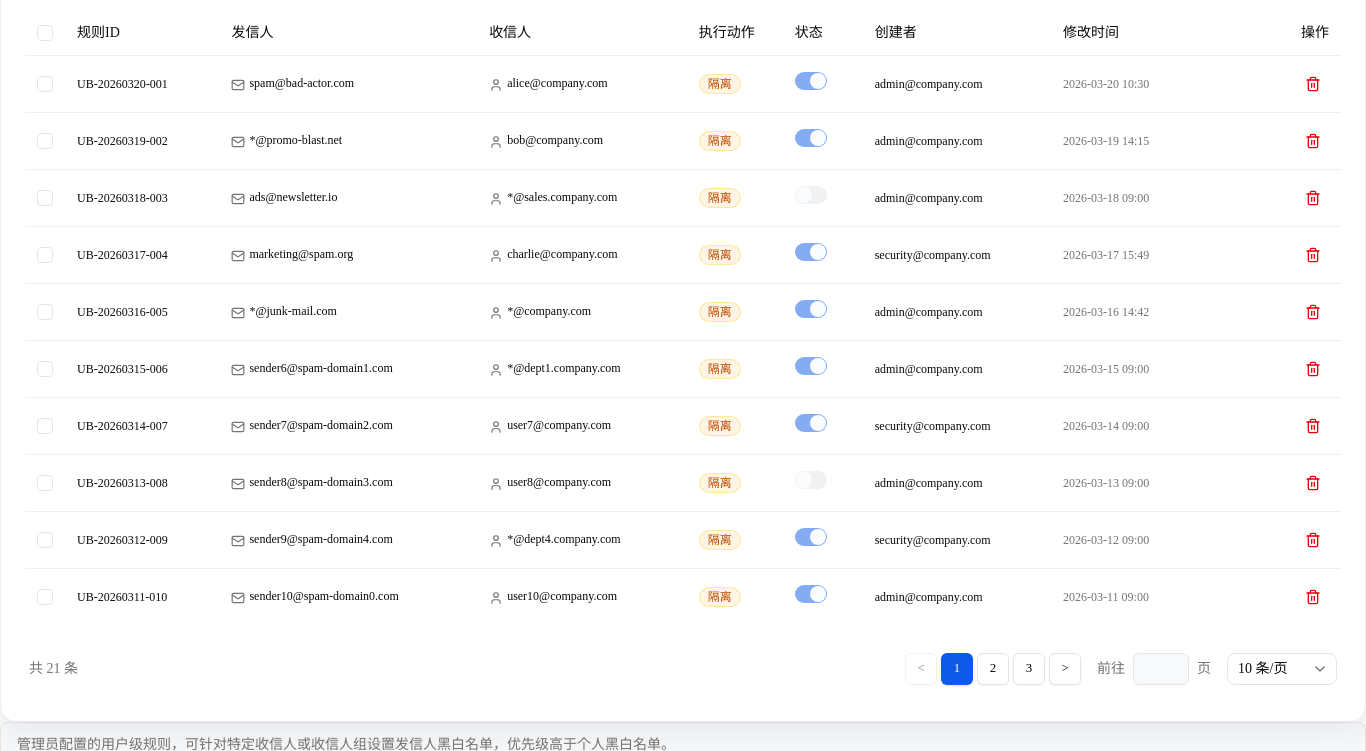
it: UserListPage › jump-page input clamps out-of-range values to [1, maxPage] (D-007)
(page scrolled)
Check: the text "UB-20260320-001" is shown, box [65, 55, 219, 112]
In the number field: (1161, 668) [1133, 652, 1189, 684], type "99"
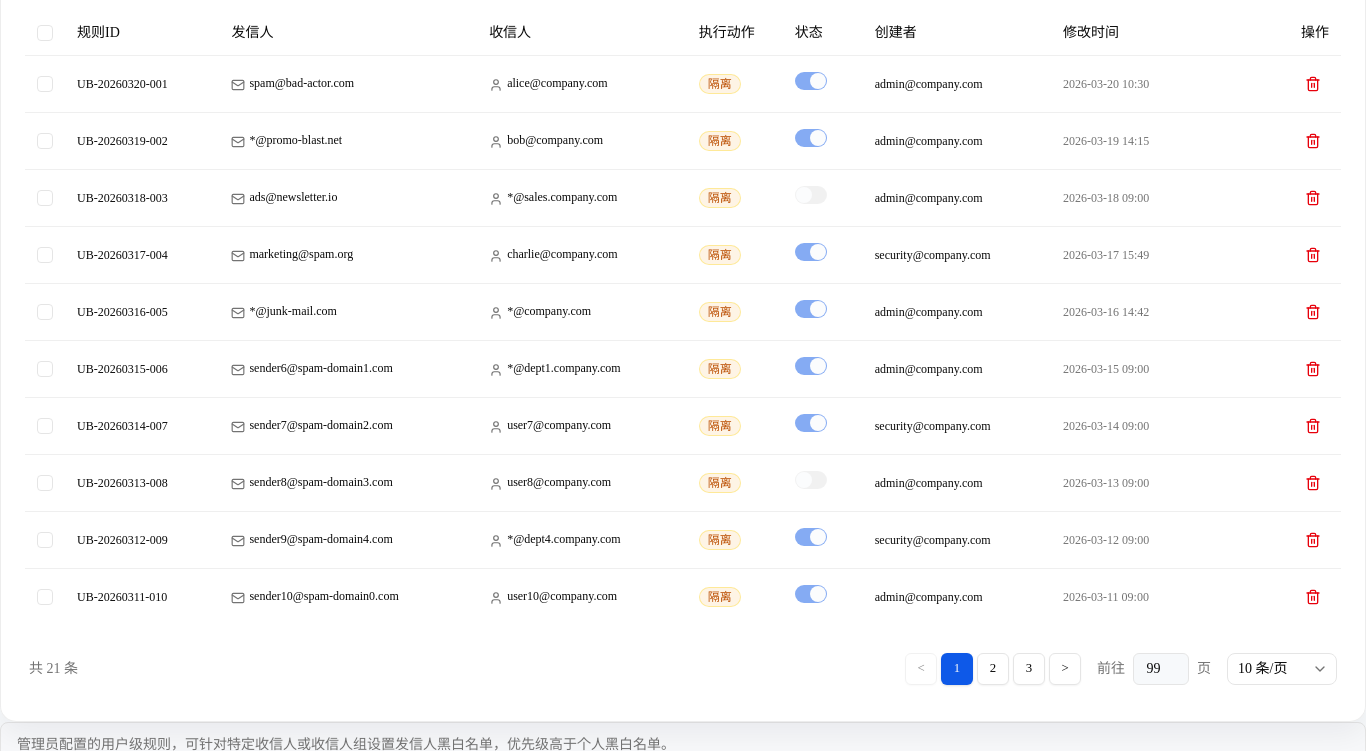
Press Enter in the number field, box [1133, 652, 1189, 684]
(page scrolled)
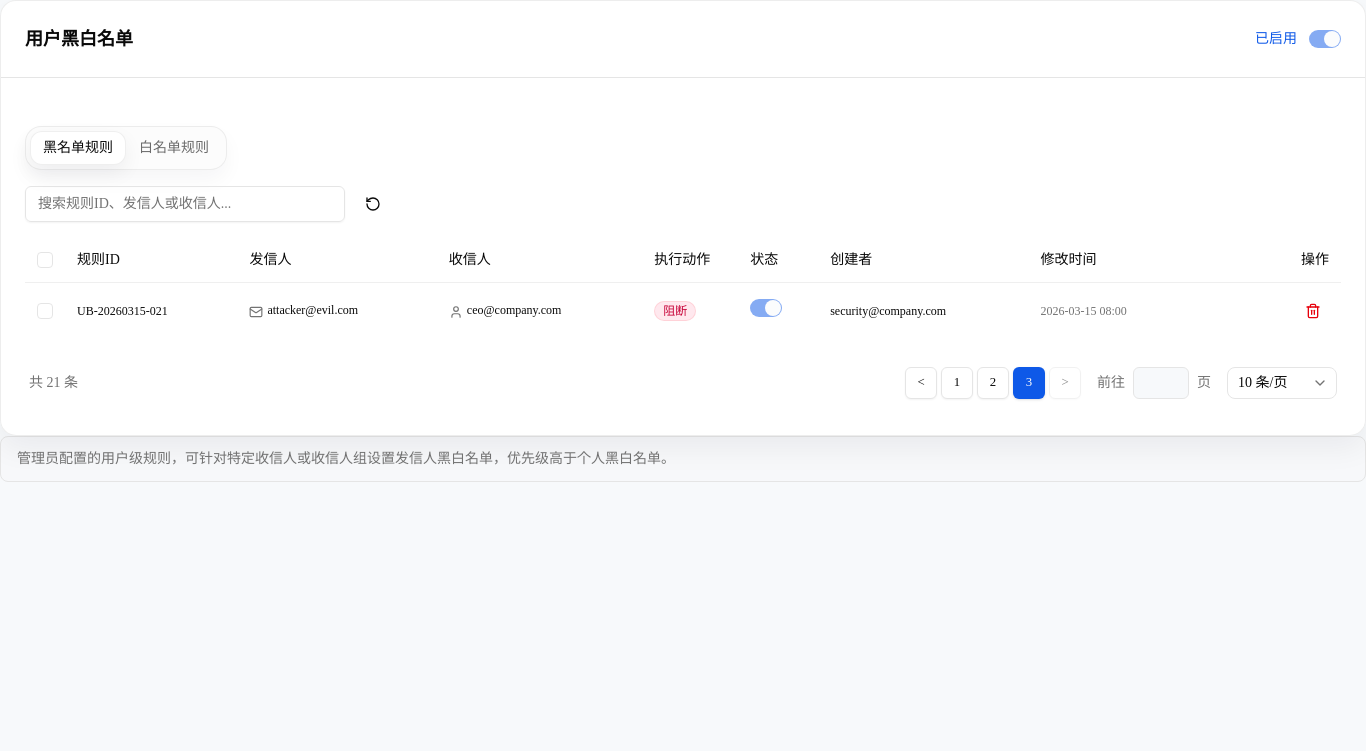
Check: the text "UB-20260315-021" is shown, box [65, 282, 237, 338]
Check: the text "UB-20260320-001" is gone
In the number field: (1161, 382) [1133, 366, 1189, 398], type "0"
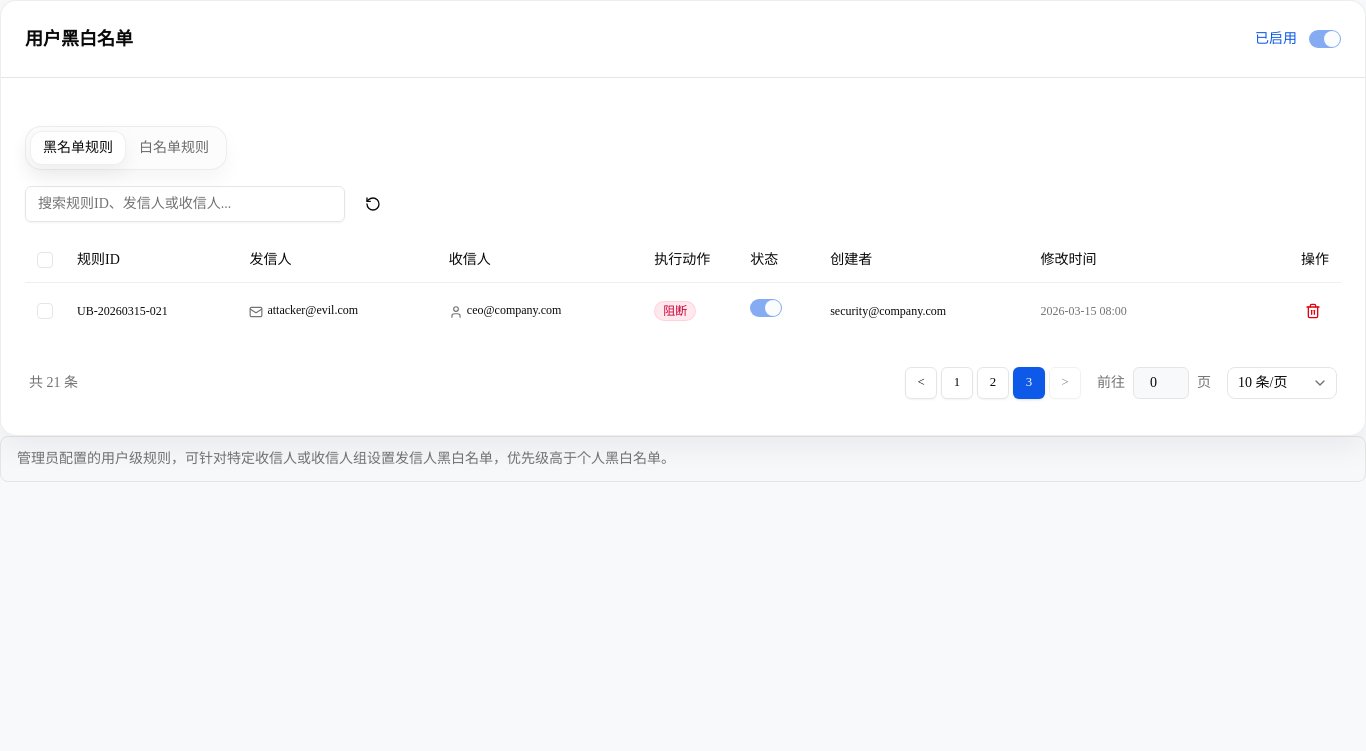
Press Enter in the number field, box [1133, 366, 1189, 398]
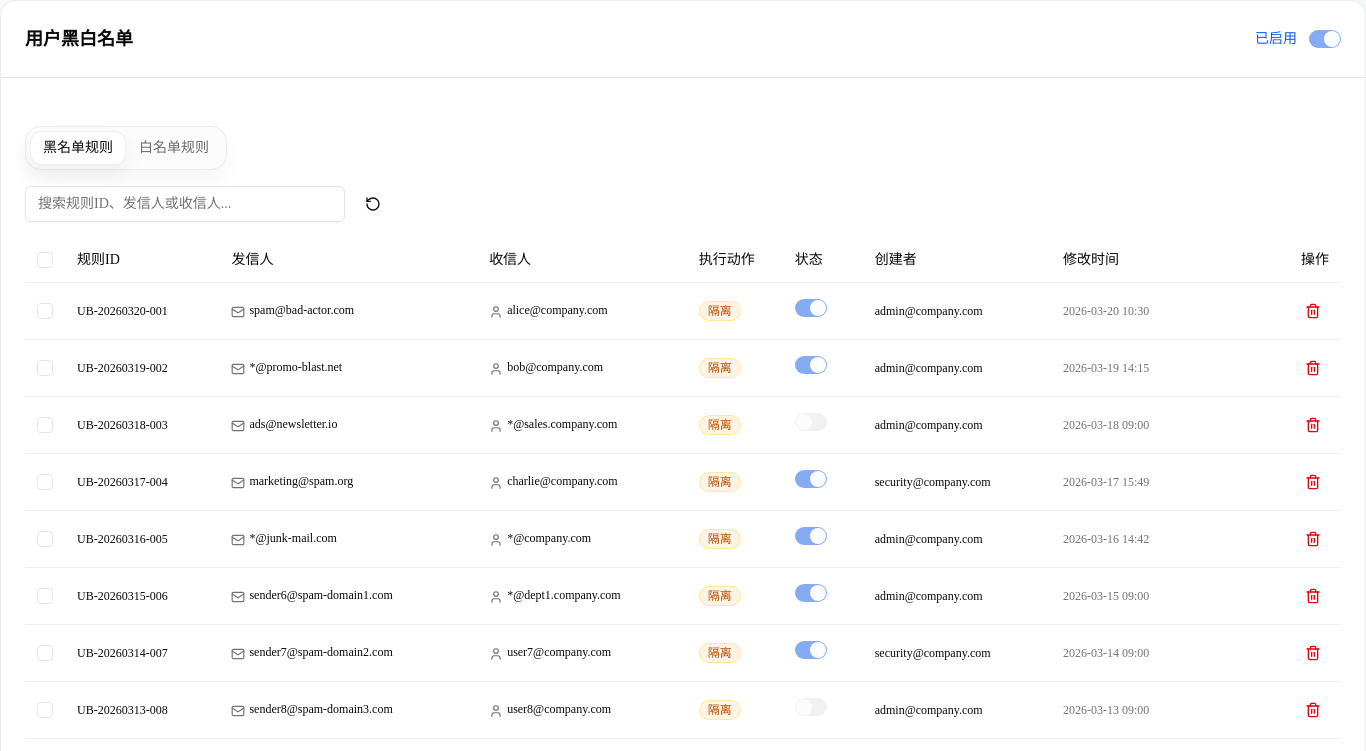
Check: the text "UB-20260320-001" is shown, box [65, 282, 219, 339]
Check: the text "UB-20260315-021" is gone
